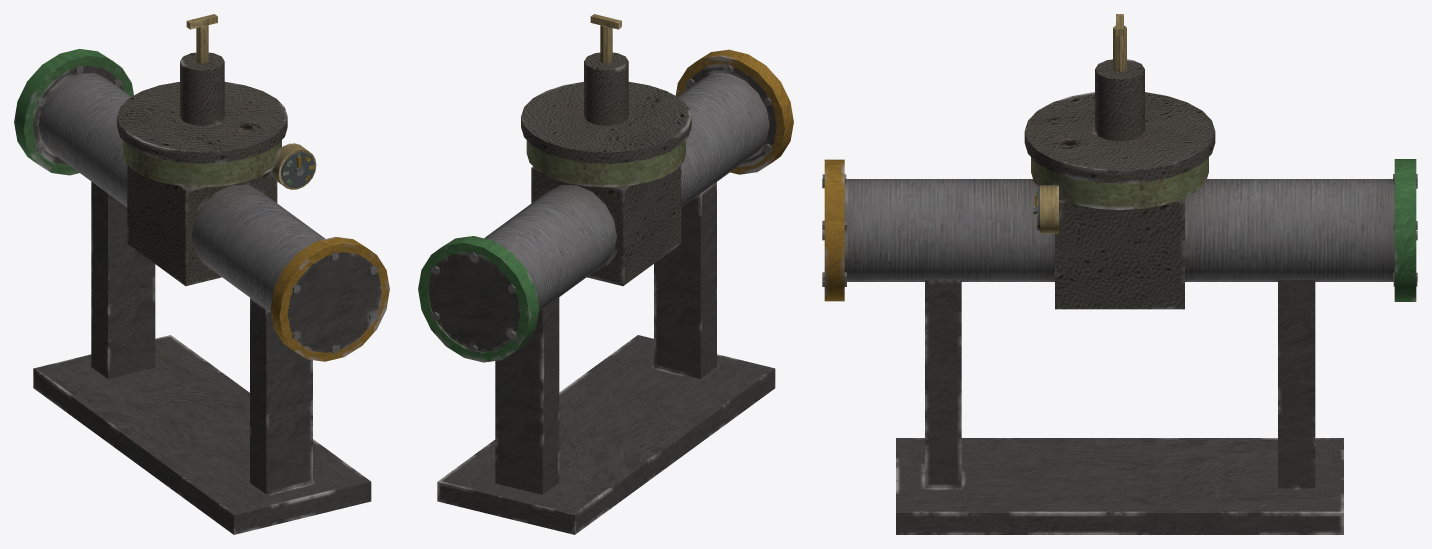
File: feValveRegulator_HD.fbx
3 views of the same model, side by side, from view 1: azimuth 30°, elevation 25°; view 2: azimuth 150°, elevation 25°; view 3: azimuth 270°, elevation 25° (orthographic). The views are drawn at different scales.
Visible parts, largest first — view 1: feValveRegulator_Base; view 2: feValveRegulator_Base; view 3: feValveRegulator_Base.
Boxes of the visible parts, <box> form: feValveRegulator_Base: <box>14,14,389,534</box>; feValveRegulator_Base: <box>418,14,793,534</box>; feValveRegulator_Base: <box>822,14,1417,534</box>.
Size of the model in its own units: 0.333 by 0.8922 by 1.01.
1 material, 1 textured.
